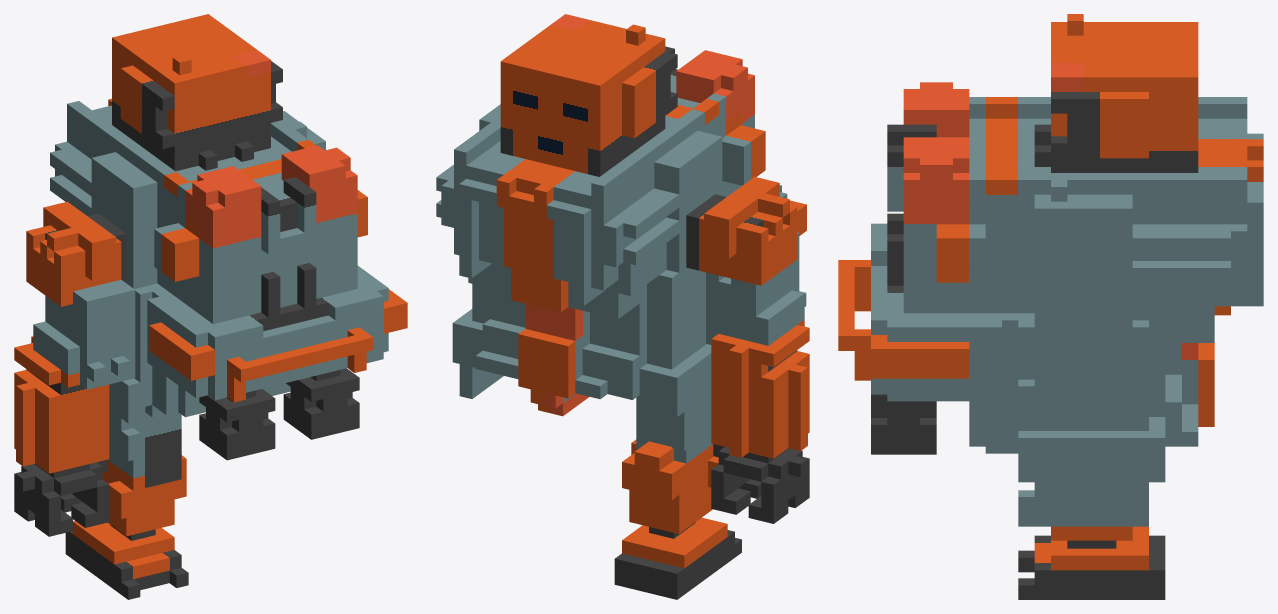
The model's file is mechsniper.dae.
3 views of the same model, side by side, from view 1: azimuth 30°, elevation 25°; view 2: azimuth 150°, elevation 25°; view 3: azimuth 270°, elevation 25° (orthographic). The views are drawn at different scales.
Parts seen in each view (by area): view 1: mechsniper; view 2: mechsniper; view 3: mechsniper.
Boxes of the visible parts, x1,y1,x2,y2 form: mechsniper: (14, 14, 407, 599); mechsniper: (436, 14, 809, 599); mechsniper: (838, 14, 1263, 599).
Bounding box in the file's own units: 2.5 × 2.6 × 4.
Materials: 1 (1 with a texture image).
